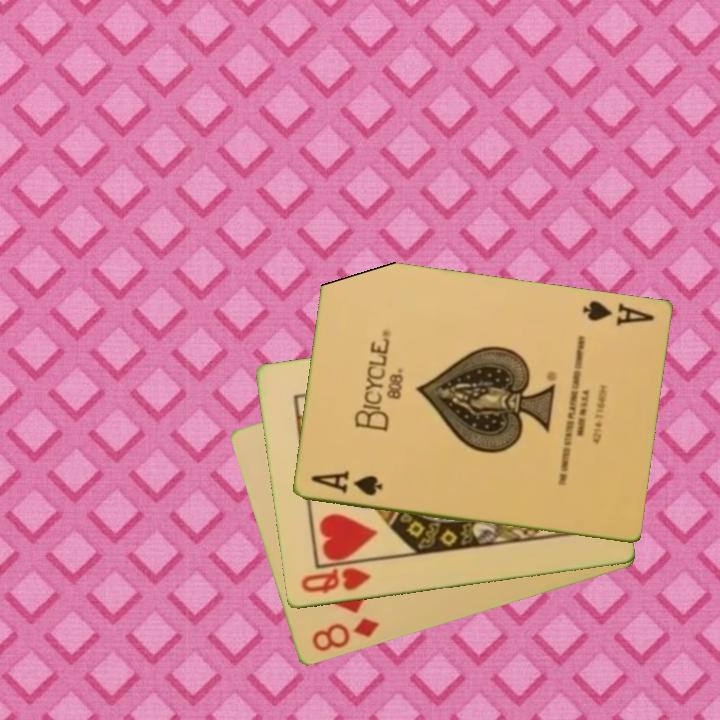8d: (308, 614, 382, 655)
As: (306, 467, 385, 499), (578, 297, 656, 329)
Qh: (297, 564, 373, 597)
